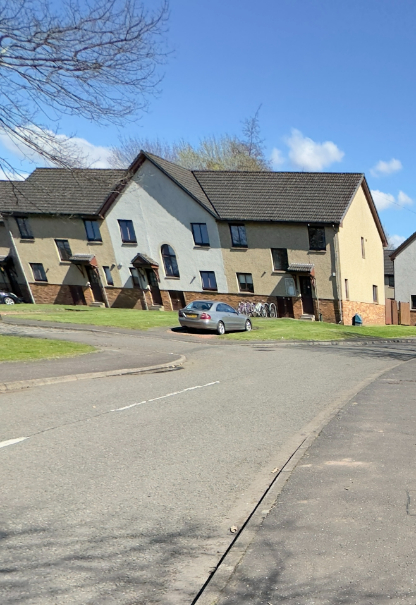car: (173, 292, 248, 340)
